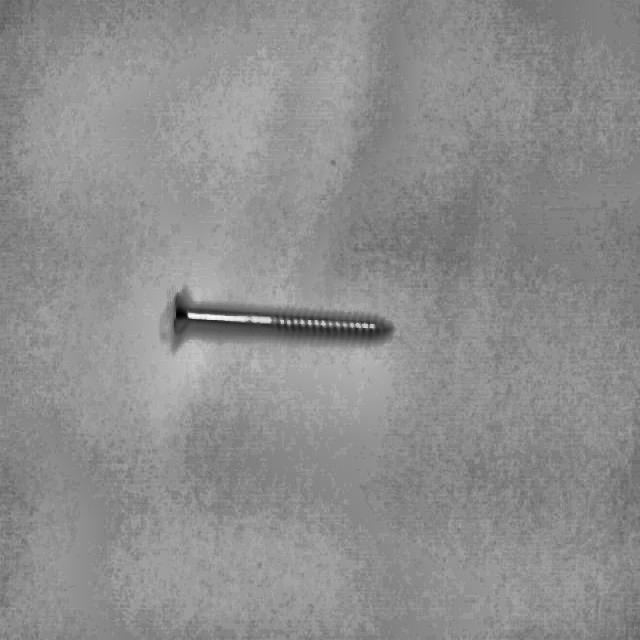Wood screw: (172, 293, 392, 339)
